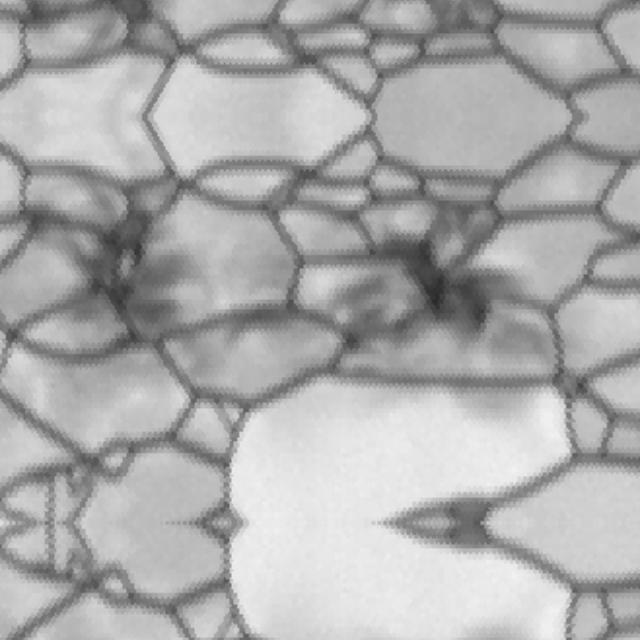good_void: (334, 182, 548, 373), (12, 176, 219, 366), (12, 0, 197, 56)
